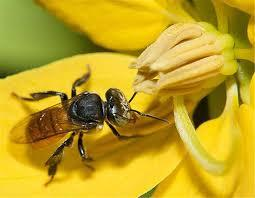Meliponula: (18, 58, 145, 166)
